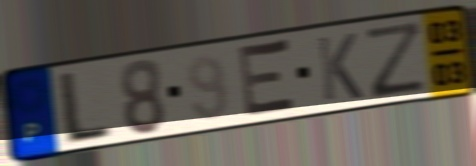8: (116, 56, 168, 137)
9: (185, 53, 231, 123)
E: (237, 36, 301, 122)
K: (314, 30, 366, 104)
L: (58, 67, 116, 148)
Z: (362, 18, 429, 101)
